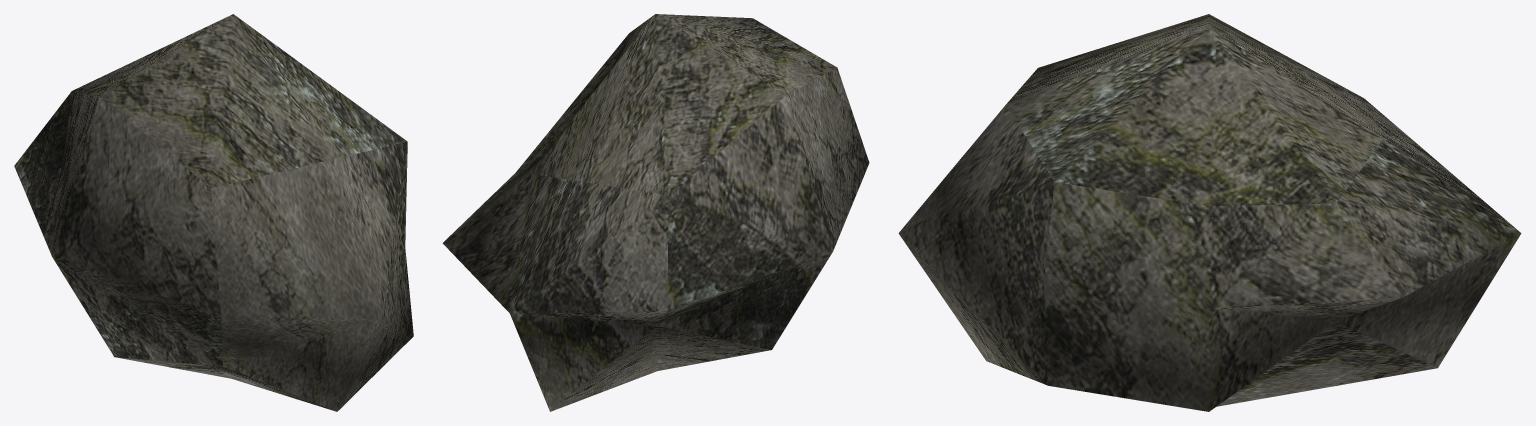
Rendered from kivi2.fbx.
The picture shows the model from 3 angles, left to right: view 1: azimuth 30°, elevation 25°; view 2: azimuth 150°, elevation 25°; view 3: azimuth 270°, elevation 25°; orthographic projection. The views are drawn at different scales.
Visible parts, largest first — view 1: Cube; view 2: Cube; view 3: Cube.
Boxes of the visible parts, x1,y1,x2,y2 form: Cube: (14,14,413,411); Cube: (442,14,869,411); Cube: (898,14,1521,411).
Size of the model in its own units: 215 by 231 by 342.
Materials: 1 (1 with a texture image).
